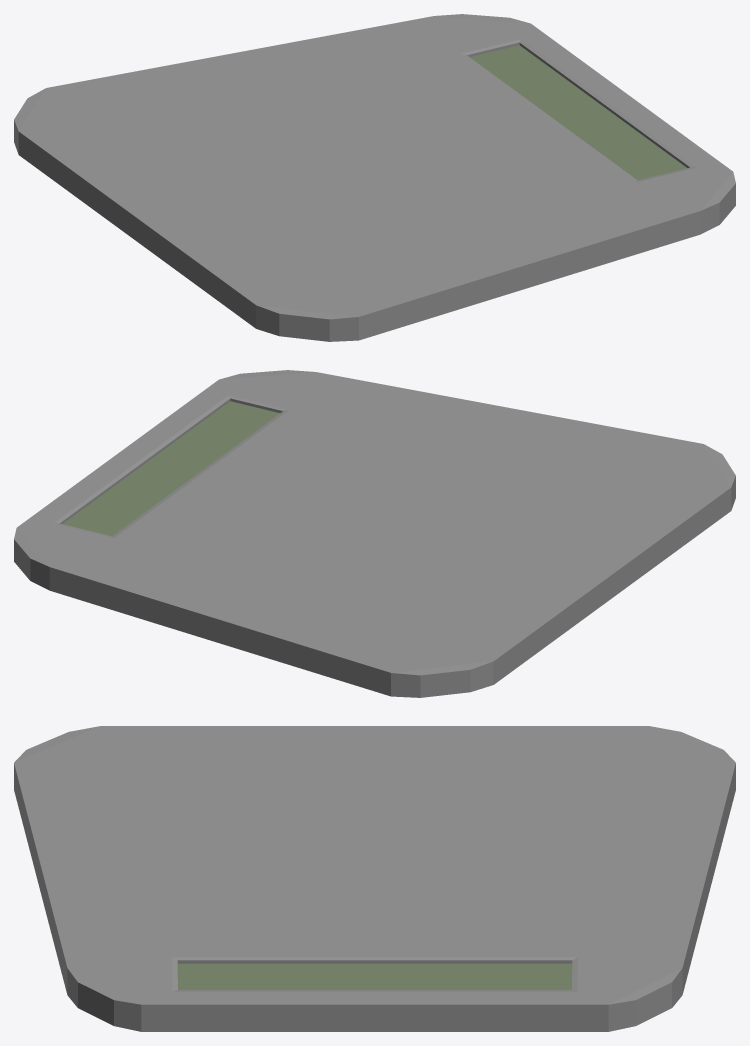
File: scale.fbx
3 renders of one model, top to bottom at view 1: azimuth 30°, elevation 25°; view 2: azimuth 150°, elevation 25°; view 3: azimuth 270°, elevation 25°, orthographic. The views are drawn at different scales.
Parts seen in each view (by area): view 1: Cube; view 2: Cube; view 3: Cube.
Part boxes in pixels (<box>): Cube: <box>14,14,735,341</box>; Cube: <box>14,370,735,697</box>; Cube: <box>14,726,735,1031</box>.
Size of the model in its own units: 183 by 10.54 by 200.
